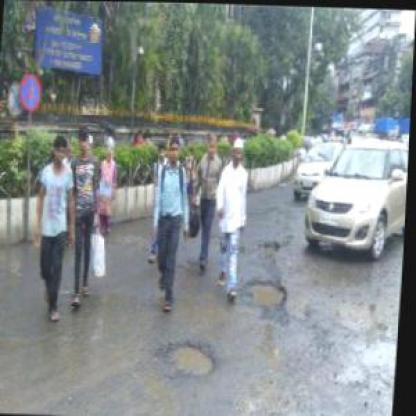pothole: (245, 275, 292, 312), (174, 337, 220, 374), (262, 235, 284, 254)
